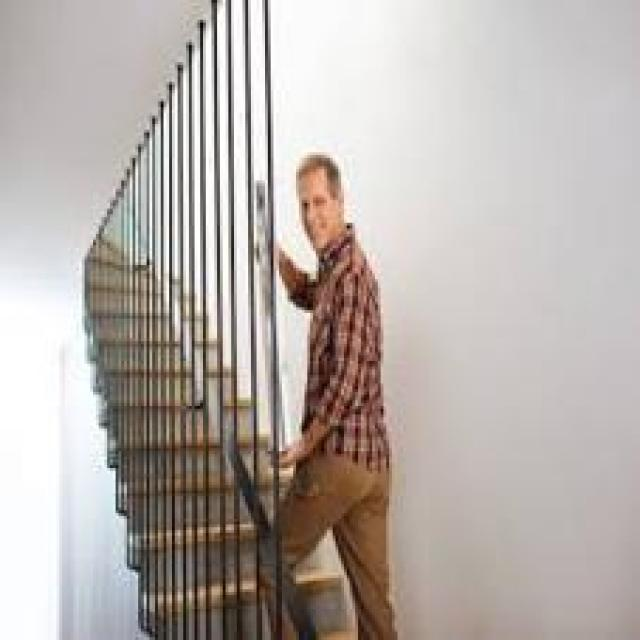upstair: (139, 398, 438, 627)
